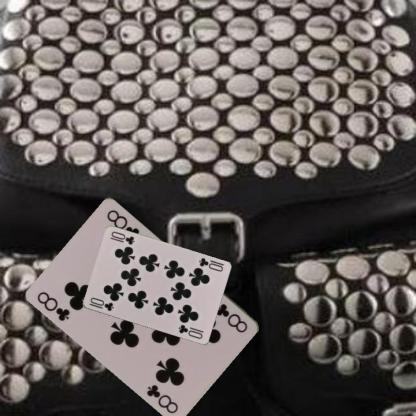10c: (196, 256, 225, 274), (87, 294, 115, 312)
8c: (34, 289, 72, 323), (213, 300, 250, 334)
